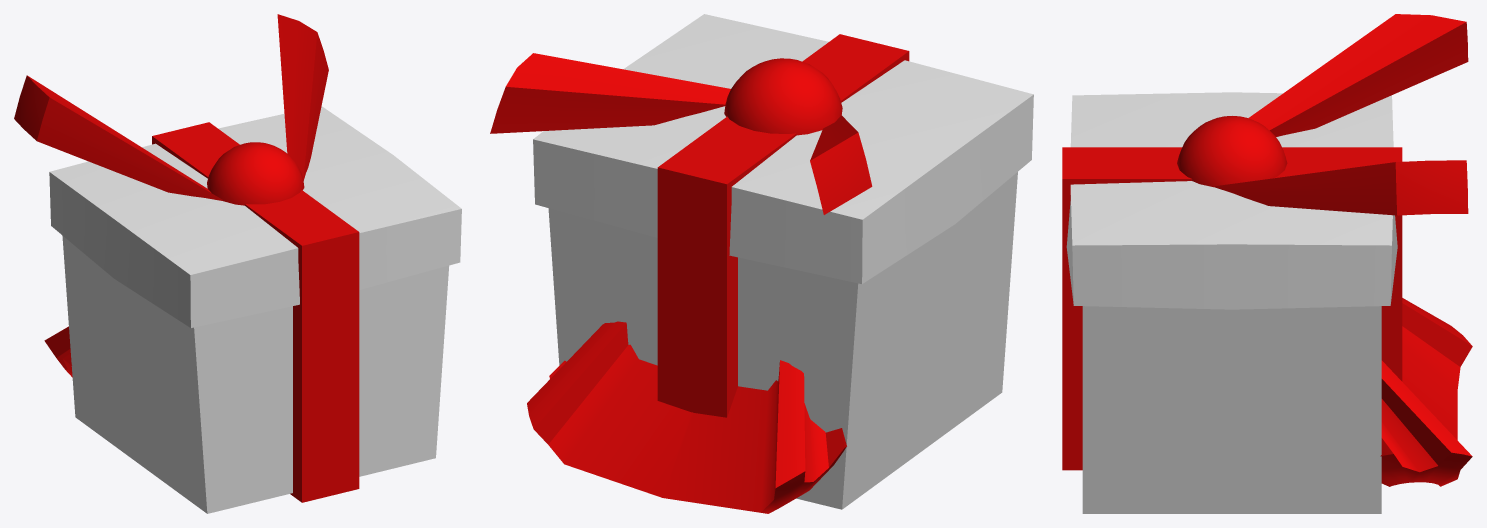
The picture shows the model from 3 angles, left to right: view 1: azimuth 30°, elevation 25°; view 2: azimuth 150°, elevation 25°; view 3: azimuth 270°, elevation 25°; orthographic projection. The views are drawn at different scales.
Visible parts, largest first — view 1: pCube3; view 2: pCube3; view 3: pCube3.
Part boxes in pixels (x1,y1,x2,y2): pCube3: [14, 14, 461, 513]; pCube3: [490, 14, 1033, 513]; pCube3: [1062, 14, 1472, 513].
Size of the model in its own units: 102 by 108 by 110.
